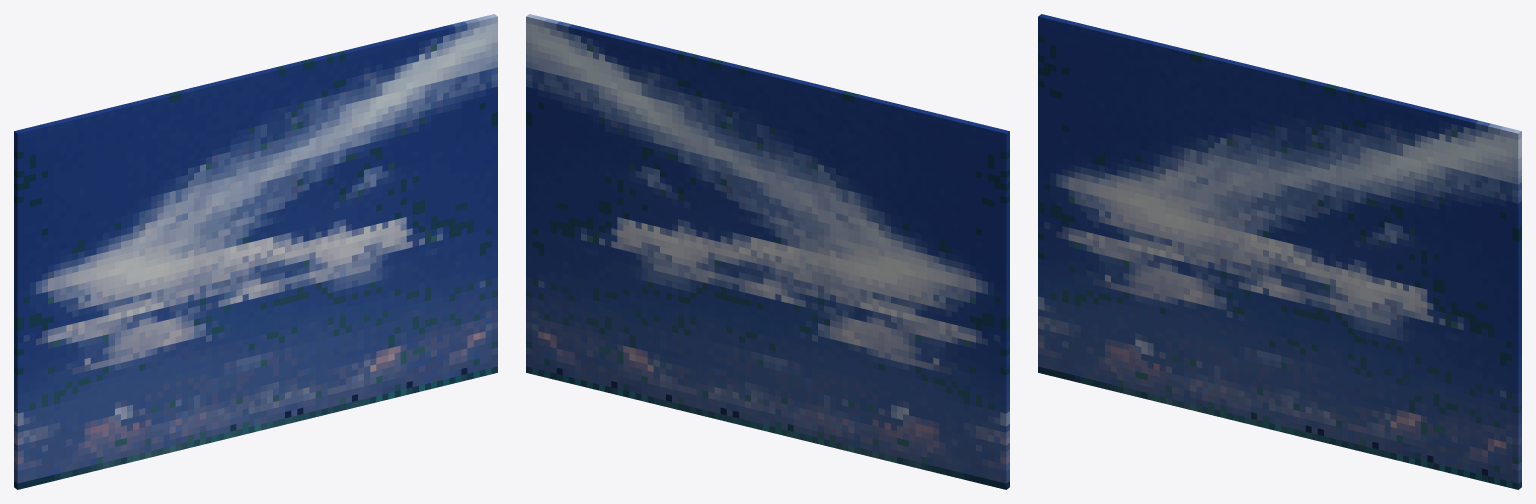
File: sky.obj
3 renders of one model, left to right at view 1: azimuth 30°, elevation 25°; view 2: azimuth 150°, elevation 25°; view 3: azimuth 330°, elevation 25°, orthographic.
Bounding box in the file's own units: 15.8 × 11.2 × 0.2.
Materials: 1 (1 with a texture image).
